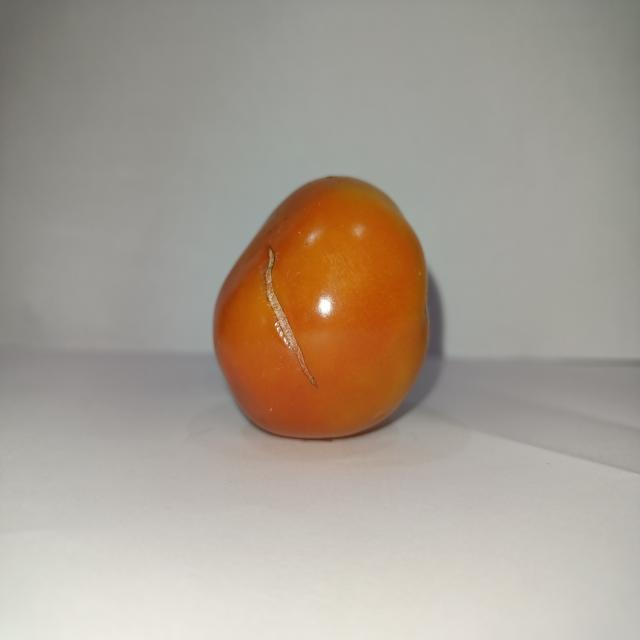Red: (211, 173, 430, 440)
